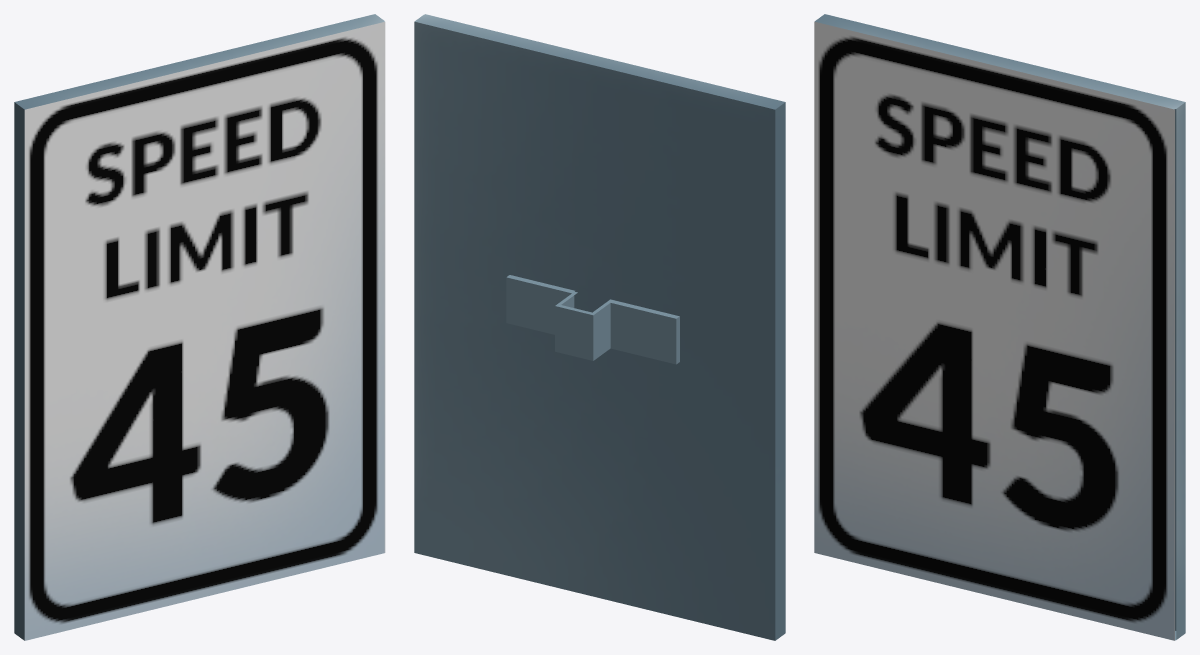
File: Sign55.fbx
3 renders of one model, left to right at view 1: azimuth 30°, elevation 25°; view 2: azimuth 150°, elevation 25°; view 3: azimuth 330°, elevation 25°, orthographic.
Visible parts, largest first — view 1: Sign55; view 2: Sign55; view 3: Sign55.
Part boxes in pixels (box(x1,y1,x2,y2)): Sign55: box(14, 14, 385, 640); Sign55: box(414, 14, 785, 640); Sign55: box(814, 14, 1185, 640).
Bounding box in the file's own units: 1 × 0.1489 × 1.41.
